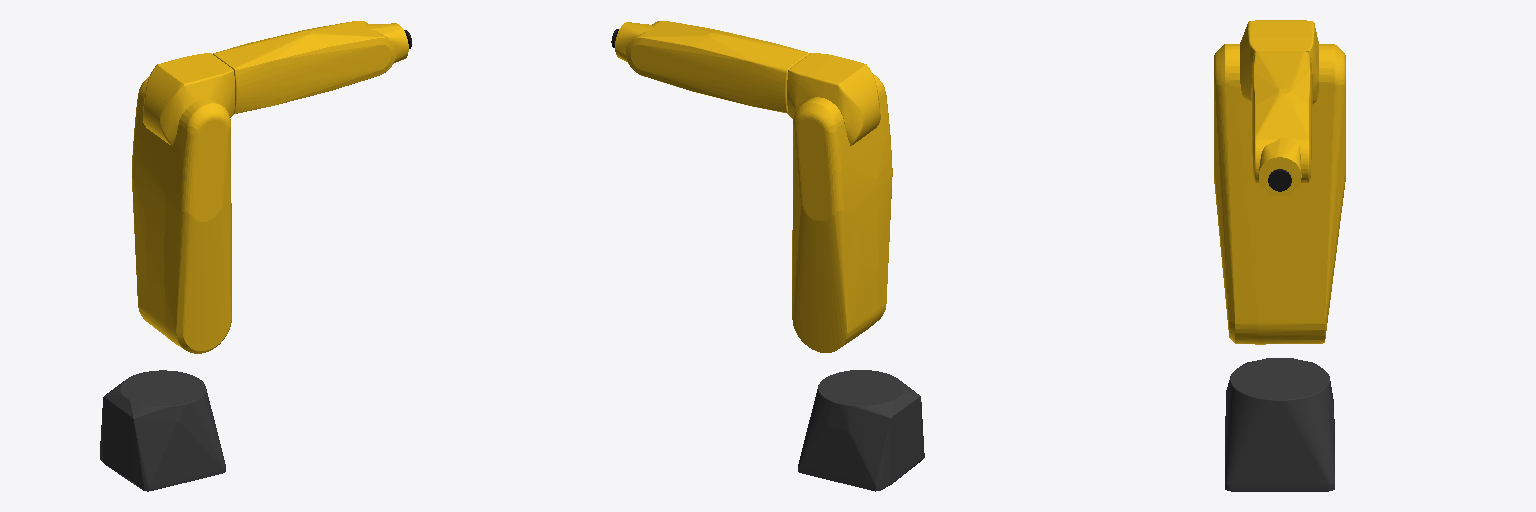
robot.urdf — fanuc_lrmate200id7lc:
<?xml version="1.0" ?>
<!-- =================================================================================== -->
<!-- |    This document was autogenerated by xacro from urdf/lrmate200id7lc.xacro      | -->
<!-- |    EDITING THIS FILE BY HAND IS NOT RECOMMENDED                                 | -->
<!-- =================================================================================== -->
<robot name="fanuc_lrmate200id7lc">
  <!-- links: main serial chain -->
  <link name="base_link">
    <visual>
      <origin rpy="0 0 0" xyz="0 0 0"/>
      <geometry>
        <mesh filename="package://fanuc_lrmate200id_support/meshes/lrmate200id/visual/base_link.stl"/>
      </geometry>
      <material name="">
        <color rgba="0.2784313725490196 0.2784313725490196 0.2784313725490196 1.0"/>
      </material>
    </visual>
    <collision>
      <origin rpy="0 0 0" xyz="0 0 0"/>
      <geometry>
        <mesh filename="package://fanuc_lrmate200id_support/meshes/lrmate200id/collision/base_link.stl"/>
      </geometry>
    </collision>
  </link>
  <link name="link_1">
    <visual>
      <origin rpy="0 0 0" xyz="0 0 0"/>
      <geometry>
        <mesh filename="package://fanuc_lrmate200id_support/meshes/lrmate200id/visual/link_1.stl"/>
      </geometry>
      <material name="">
        <color rgba="0.96 0.76 0.13 1.0"/>
      </material>
    </visual>
    <collision>
      <origin rpy="0 0 0" xyz="0 0 0"/>
      <geometry>
        <mesh filename="package://fanuc_lrmate200id_support/meshes/lrmate200id/collision/link_1.stl"/>
      </geometry>
    </collision>
  </link>
  <link name="link_2">
    <visual>
      <origin rpy="0 0 0" xyz="0 0 0"/>
      <geometry>
        <mesh filename="package://fanuc_lrmate200id_support/meshes/lrmate200id7l/visual/link_2.stl"/>
      </geometry>
      <material name="">
        <color rgba="0.96 0.76 0.13 1.0"/>
      </material>
    </visual>
    <collision>
      <origin rpy="0 0 0" xyz="0 0 0"/>
      <geometry>
        <mesh filename="package://fanuc_lrmate200id_support/meshes/lrmate200id7l/collision/link_2.stl"/>
      </geometry>
    </collision>
  </link>
  <link name="link_3">
    <visual>
      <origin rpy="0 0 0" xyz="0 0 0"/>
      <geometry>
        <mesh filename="package://fanuc_lrmate200id_support/meshes/lrmate200id/visual/link_3.stl"/>
      </geometry>
      <material name="">
        <color rgba="0.96 0.76 0.13 1.0"/>
      </material>
    </visual>
    <collision>
      <origin rpy="0 0 0" xyz="0 0 0"/>
      <geometry>
        <mesh filename="package://fanuc_lrmate200id_support/meshes/lrmate200id/collision/link_3.stl"/>
      </geometry>
    </collision>
  </link>
  <link name="link_4">
    <visual>
      <origin rpy="0 0 0" xyz="0 0 0"/>
      <geometry>
        <mesh filename="package://fanuc_lrmate200id_support/meshes/lrmate200id7l/visual/link_4.stl"/>
      </geometry>
      <material name="">
        <color rgba="0.96 0.76 0.13 1.0"/>
      </material>
    </visual>
    <collision>
      <origin rpy="0 0 0" xyz="0 0 0"/>
      <geometry>
        <mesh filename="package://fanuc_lrmate200id_support/meshes/lrmate200id7l/collision/link_4.stl"/>
      </geometry>
    </collision>
  </link>
  <link name="link_5">
    <visual>
      <origin rpy="0 0 0" xyz="0 0 0"/>
      <geometry>
        <mesh filename="package://fanuc_lrmate200id_support/meshes/lrmate200id/visual/link_5.stl"/>
      </geometry>
      <material name="">
        <color rgba="0.96 0.76 0.13 1.0"/>
      </material>
    </visual>
    <collision>
      <origin rpy="0 0 0" xyz="0 0 0"/>
      <geometry>
        <mesh filename="package://fanuc_lrmate200id_support/meshes/lrmate200id/collision/link_5.stl"/>
      </geometry>
    </collision>
  </link>
  <link name="link_6">
    <visual>
      <origin rpy="0 0 0" xyz="0 0 0"/>
      <geometry>
        <mesh filename="package://fanuc_lrmate200id_support/meshes/lrmate200id/visual/link_6.stl"/>
      </geometry>
      <material name="">
        <color rgba="0.15 0.15 0.15 1.0"/>
      </material>
    </visual>
    <collision>
      <origin rpy="0 0 0" xyz="0 0 0"/>
      <geometry>
        <mesh filename="package://fanuc_lrmate200id_support/meshes/lrmate200id/collision/link_6.stl"/>
      </geometry>
    </collision>
  </link>
  <!-- joints: main serial chain -->
  <joint name="joint_1" type="revolute">
    <origin rpy="0 0 0" xyz="0 0 0.330"/>
    <parent link="base_link"/>
    <child link="link_1"/>
    <axis xyz="0 0 1"/>
    <limit effort="0" lower="-2.9670597283903604" upper="2.9670597283903604" velocity="6.457718232379019"/>
  </joint>
  <joint name="joint_2" type="revolute">
    <origin rpy="0 0 0" xyz="0.050 0 0"/>
    <parent link="link_1"/>
    <child link="link_2"/>
    <axis xyz="0 1 0"/>
    <limit effort="0" lower="-1.7453292519943295" upper="2.530727415391778" velocity="5.410520681182422"/>
  </joint>
  <joint name="joint_3" type="revolute">
    <origin rpy="0 0 0" xyz="0 0 0.440"/>
    <parent link="link_2"/>
    <child link="link_3"/>
    <axis xyz="0 -1 0"/>
    <limit effort="0" lower="-1.2217304763960306" upper="3.717551306747922" velocity="7.155849933176751"/>
  </joint>
  <joint name="joint_4" type="revolute">
    <origin rpy="0 0 0" xyz="0 0 0.035"/>
    <parent link="link_3"/>
    <child link="link_4"/>
    <axis xyz="-1 0 0"/>
    <limit effort="0" lower="-3.3161255787892263" upper="3.3161255787892263" velocity="9.599310885968812"/>
  </joint>
  <joint name="joint_5" type="revolute">
    <origin rpy="0 0 0" xyz="0.420 0 0"/>
    <parent link="link_4"/>
    <child link="link_5"/>
    <axis xyz="0 -1 0"/>
    <limit effort="0" lower="-2.181661564992912" upper="2.181661564992912" velocity="9.512044423369096"/>
  </joint>
  <joint name="joint_6" type="revolute">
    <origin rpy="0 0 0" xyz="0.092 0 0"/>
    <parent link="link_5"/>
    <child link="link_6"/>
    <axis xyz="-1 0 0"/>
    <limit effort="0" lower="-6.283185307179586" upper="6.283185307179586" velocity="17.453292519943297"/>
  </joint>
  <!-- ROS-Industrial 'base' frame: base_link to Fanuc World Coordinates transform -->
  <link name="base"/>
  <joint name="base_link-base" type="fixed">
    <origin rpy="0 0 0" xyz="0 0 0.330"/>
    <parent link="base_link"/>
    <child link="base"/>
  </joint>
  <!-- ROS-Industrial 'flange' frame: attachment point for EEF models -->
  <link name="flange"/>
  <joint name="link_6-flange" type="fixed">
    <origin rpy="0 0 0" xyz="0 0 0"/>
    <parent link="link_6"/>
    <child link="flange"/>
  </joint>
  <!-- ROS-Industrial 'tool0' frame: all-zeros tool frame -->
  <link name="tool0"/>
  <joint name="flange-tool0" type="fixed">
    <origin rpy="3.141592653589793 -1.5707963267948966 0" xyz="0 0 0"/>
    <parent link="flange"/>
    <child link="tool0"/>
  </joint>
</robot>

--- Render facts (derived) ---
The picture shows the robot from 3 angles, left to right: view 1: azimuth 30°, elevation 25°; view 2: azimuth 150°, elevation 25°; view 3: azimuth 270°, elevation 25°; orthographic projection.
Model fanuc_lrmate200id7lc with 10 links and 9 joints (6 revolute, 3 fixed), rooted at base_link, posed every joint at zero.
Visible links, largest first — view 1: link_2, base_link, link_4, link_3, link_5; view 2: link_2, base_link, link_4, link_3, link_5; view 3: link_2, base_link, link_4, link_3, link_5.
Boxes of the visible links, left/top/right/bottom form: link_2: left=132, top=76, right=231, bottom=353; base_link: left=100, top=370, right=225, bottom=491; link_4: left=213, top=21, right=395, bottom=113; link_3: left=143, top=53, right=234, bottom=145; link_5: left=367, top=23, right=408, bottom=63; link_2: left=792, top=74, right=892, bottom=352; base_link: left=798, top=370, right=924, bottom=491; link_4: left=626, top=21, right=810, bottom=113; link_3: left=787, top=53, right=880, bottom=145; link_5: left=615, top=22, right=653, bottom=61; link_2: left=1214, top=44, right=1345, bottom=344; base_link: left=1225, top=358, right=1334, bottom=491; link_4: left=1251, top=51, right=1312, bottom=182; link_3: left=1240, top=20, right=1318, bottom=105; link_5: left=1258, top=137, right=1301, bottom=195.
Bounding box of the posed robot: 0.665 × 0.227 × 0.8689 m (x, y, z).
Meshes: 7 distinct files referenced, 6 mesh visuals loaded (6 binary STL); not drawn: 1 (reference not matched to a file when rendering).